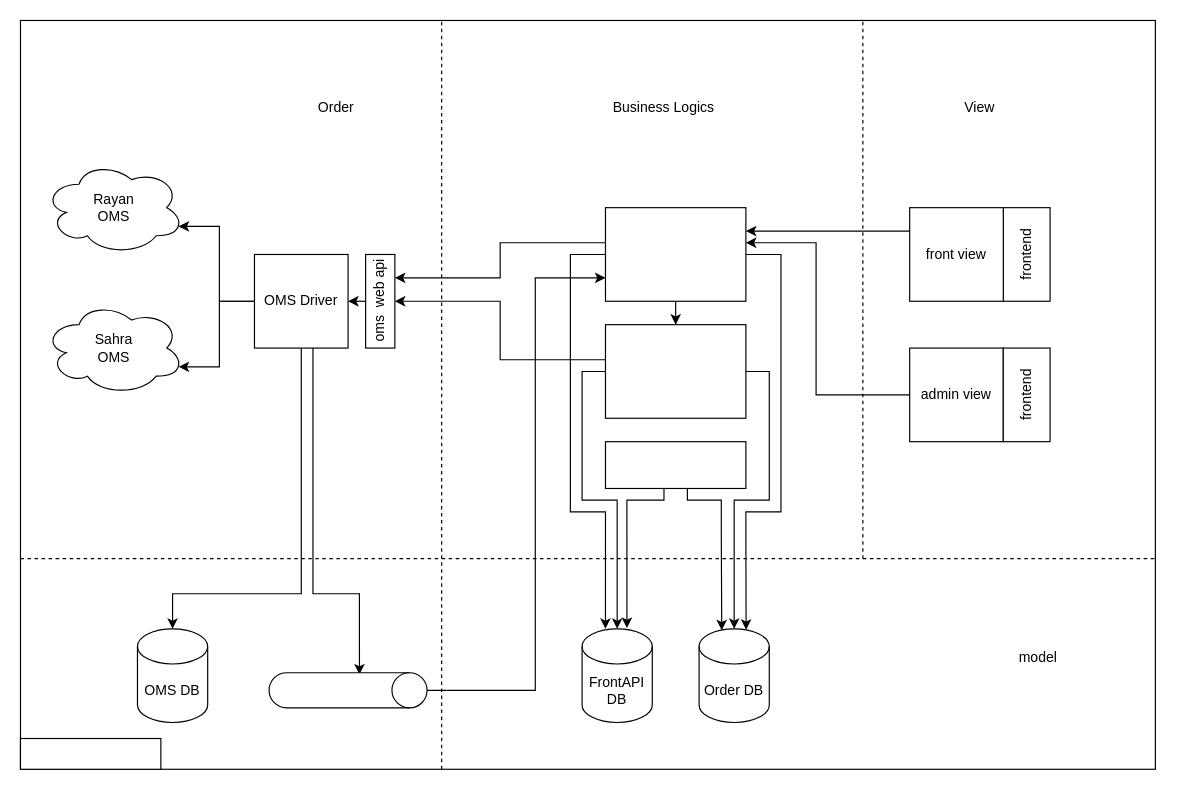
Image size: 1177x791. Some labels were removed from this diagram. The box of each missing label's shape, as (x1, y1, x2, y2) in pixels:
Core (Auto algo runner): (604, 324, 746, 418)
FrontAPI: (604, 207, 746, 301)
message qeue: (268, 672, 427, 708)
Report Builder: (604, 441, 746, 488)
v.0.0.1 (000408): (19, 737, 161, 769)
